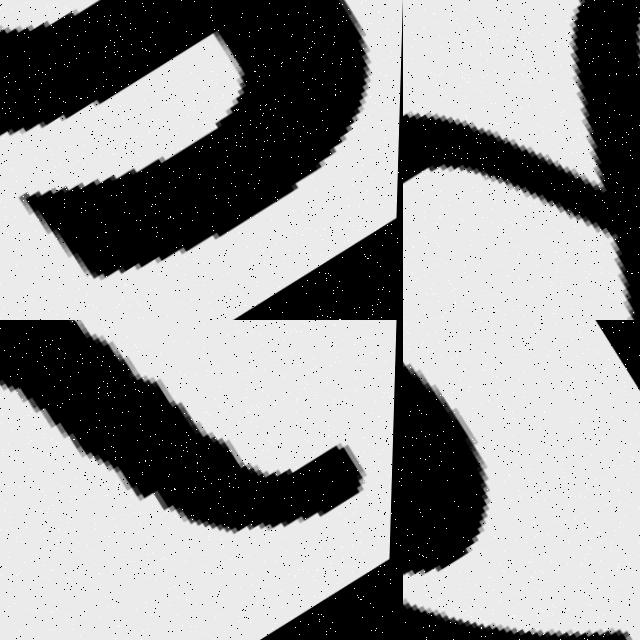6: (403, 320, 640, 640)
A: (0, 0, 403, 320)
L: (0, 320, 320, 640)
X: (403, 0, 640, 320)
